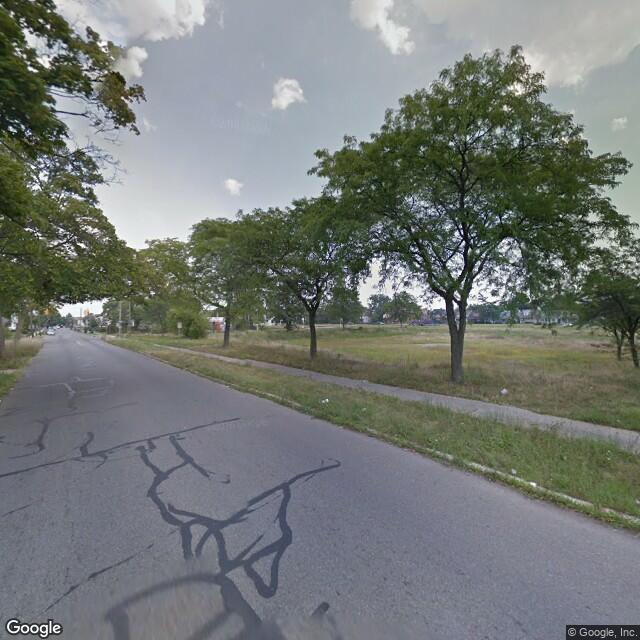litter: (526, 481, 539, 488), (499, 386, 508, 395), (508, 467, 519, 474), (318, 398, 331, 403), (633, 497, 640, 505)
